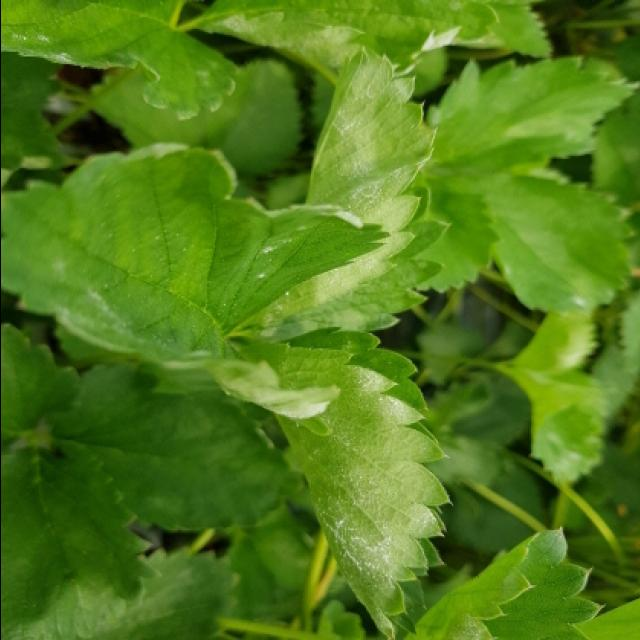Powdery Mildew Leaf: (2, 140, 391, 417), (232, 327, 452, 638), (234, 45, 453, 340), (2, 0, 241, 122), (492, 363, 606, 481)
